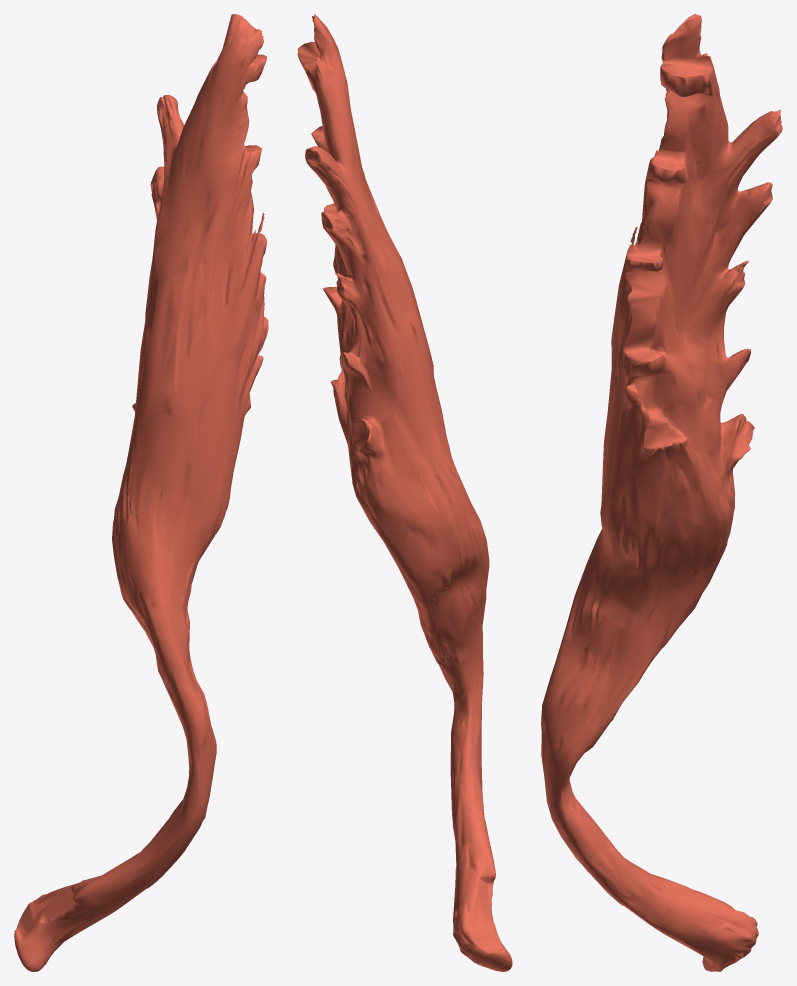
File: psoas-major-and-minor.glb
The picture shows the model from 3 angles, left to right: view 1: azimuth 30°, elevation 25°; view 2: azimuth 150°, elevation 25°; view 3: azimuth 270°, elevation 25°; orthographic projection. The views are drawn at different scales.
Visible parts, largest first — view 1: Psoas muscle.r; view 2: Psoas muscle.r; view 3: Psoas muscle.r.
Part boxes in pixels (<box>): Psoas muscle.r: <box>14,14,268,971</box>; Psoas muscle.r: <box>297,14,512,971</box>; Psoas muscle.r: <box>541,14,782,971</box>.
Bounding box in the file's own units: 0.0999 × 0.3799 × 0.0781.
